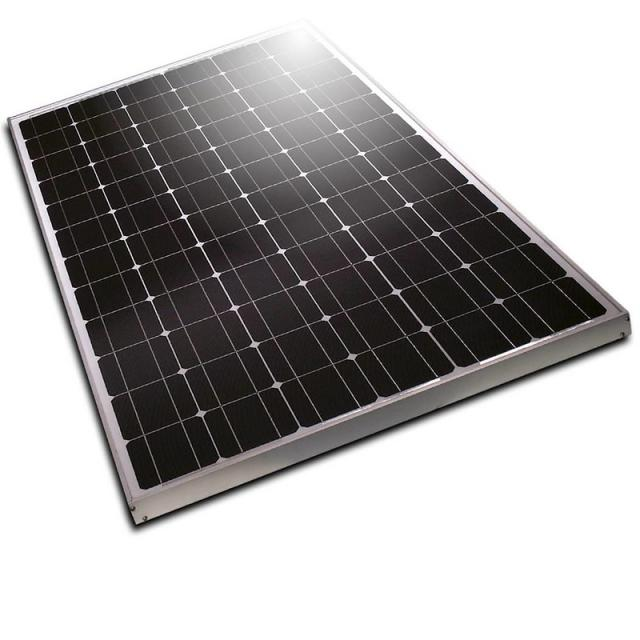no faulty: (14, 27, 605, 493)
